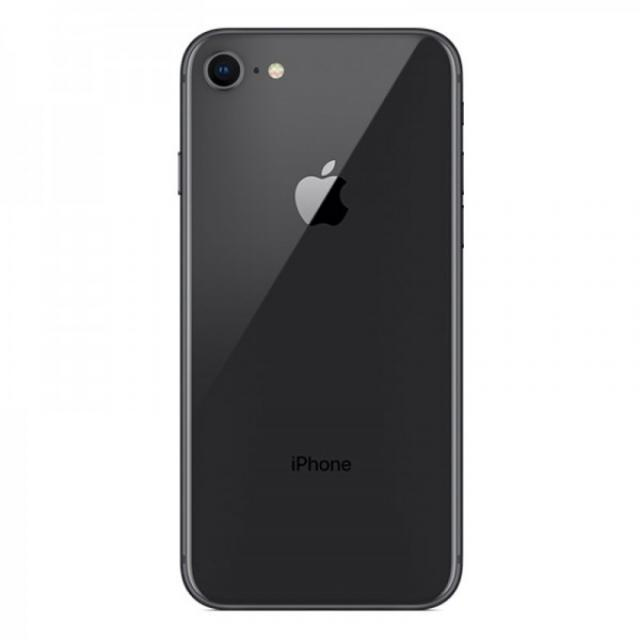phone: (174, 19, 466, 608)
